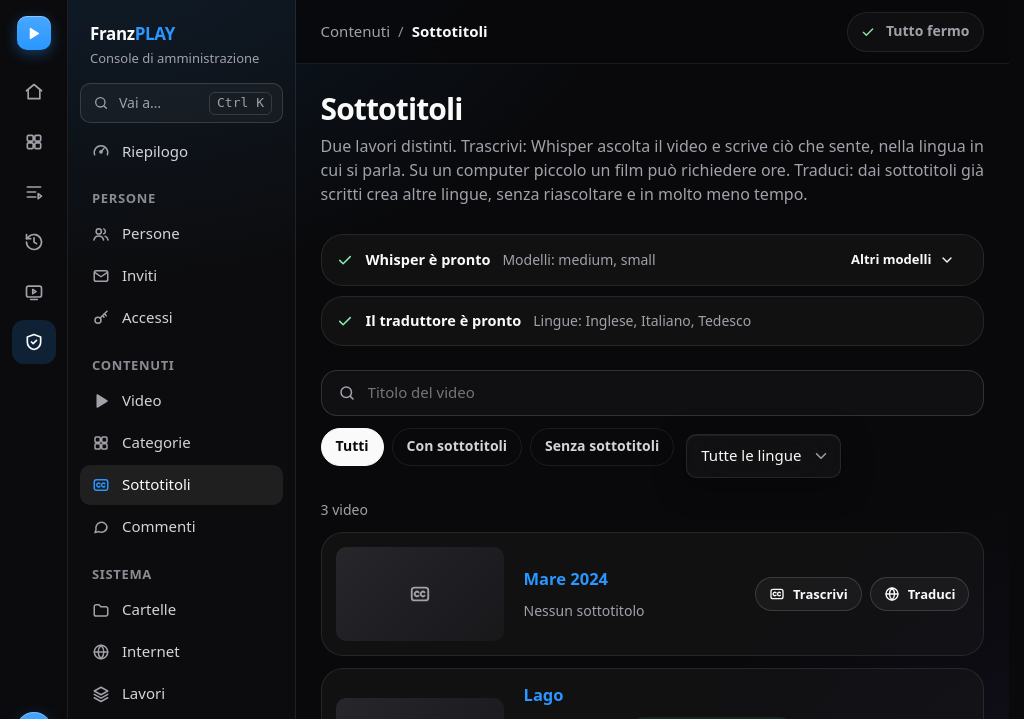
Test case: subtitles page › explains what to do when there is nothing to translate
Click the button "Traduci" in the row of "Nessun sottotitolo" at point(920, 594), box [870,577,969,611]
(page scrolled)
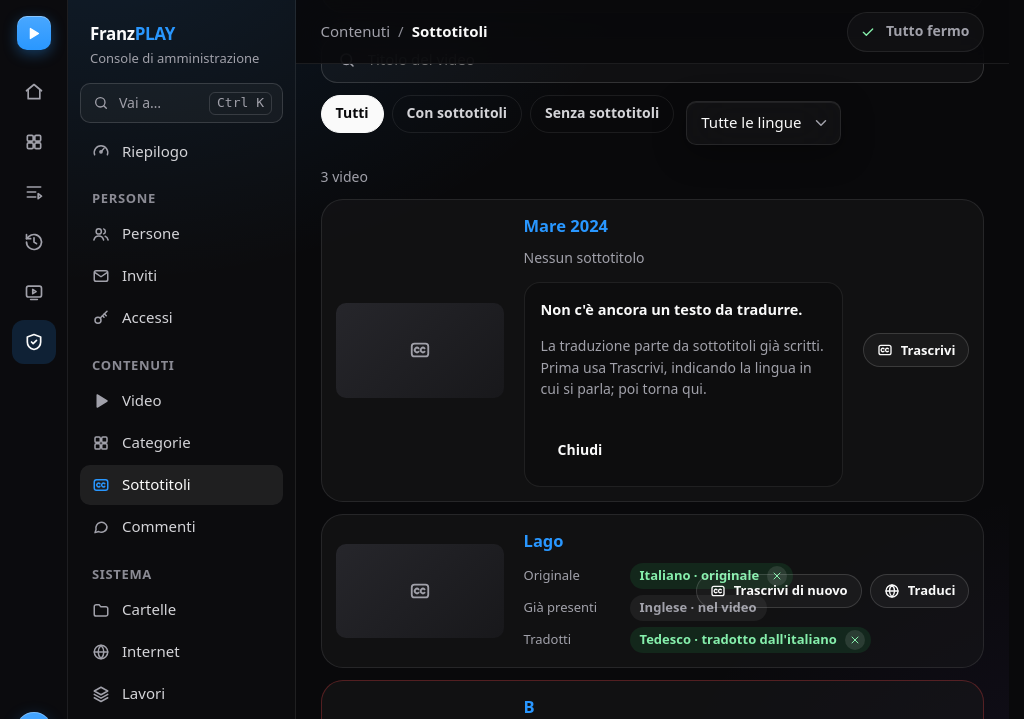
expect the form named "Traduci Mare 2024" shows "Non c'è ancora un testo da tradurre": met, box [541,299,802,319]
expect the form named "Traduci Mare 2024" shows "Prima usa Trascrivi": met, box [541,358,812,398]
